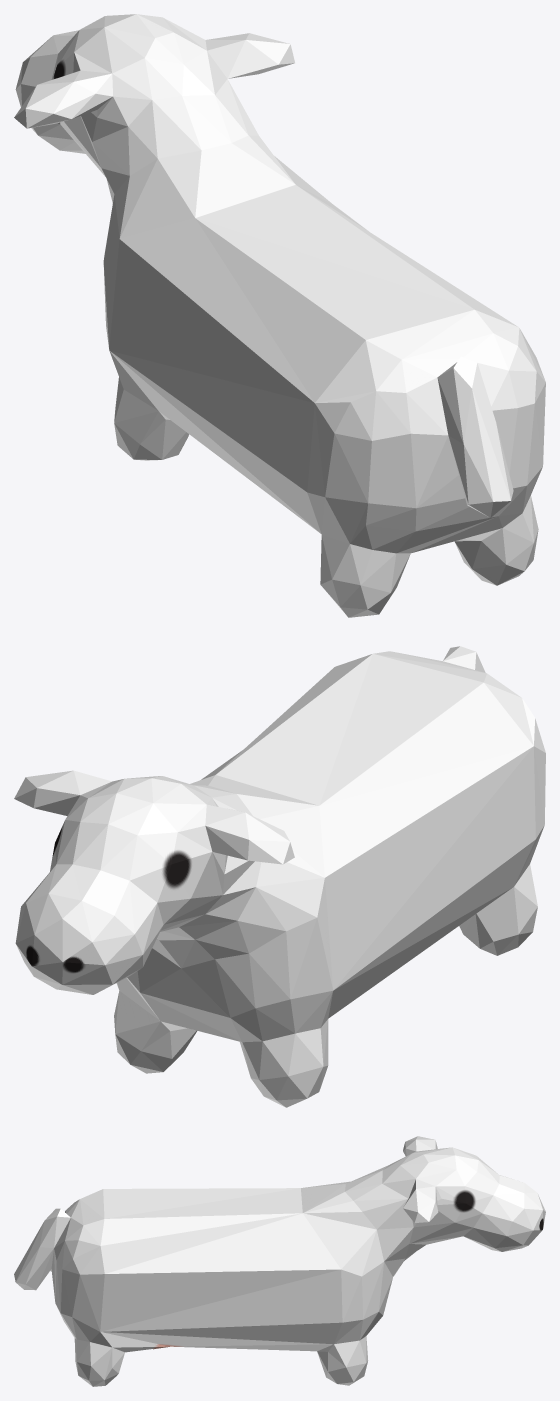
Rendered from animal_cow_blob.obj.
3 renders of one model, top to bottom at view 1: azimuth 30°, elevation 25°; view 2: azimuth 150°, elevation 25°; view 3: azimuth 270°, elevation 25°, orthographic. The views are drawn at different scales.
Visible parts, largest first — view 1: animal_cow_blob; view 2: animal_cow_blob; view 3: animal_cow_blob.
Boxes of the visible parts, bbox=[...] form: animal_cow_blob: bbox=[14, 14, 545, 617]; animal_cow_blob: bbox=[14, 646, 545, 1107]; animal_cow_blob: bbox=[14, 1136, 545, 1386].
Size of the model in its own units: 0.7442 by 0.9533 by 2.16.
